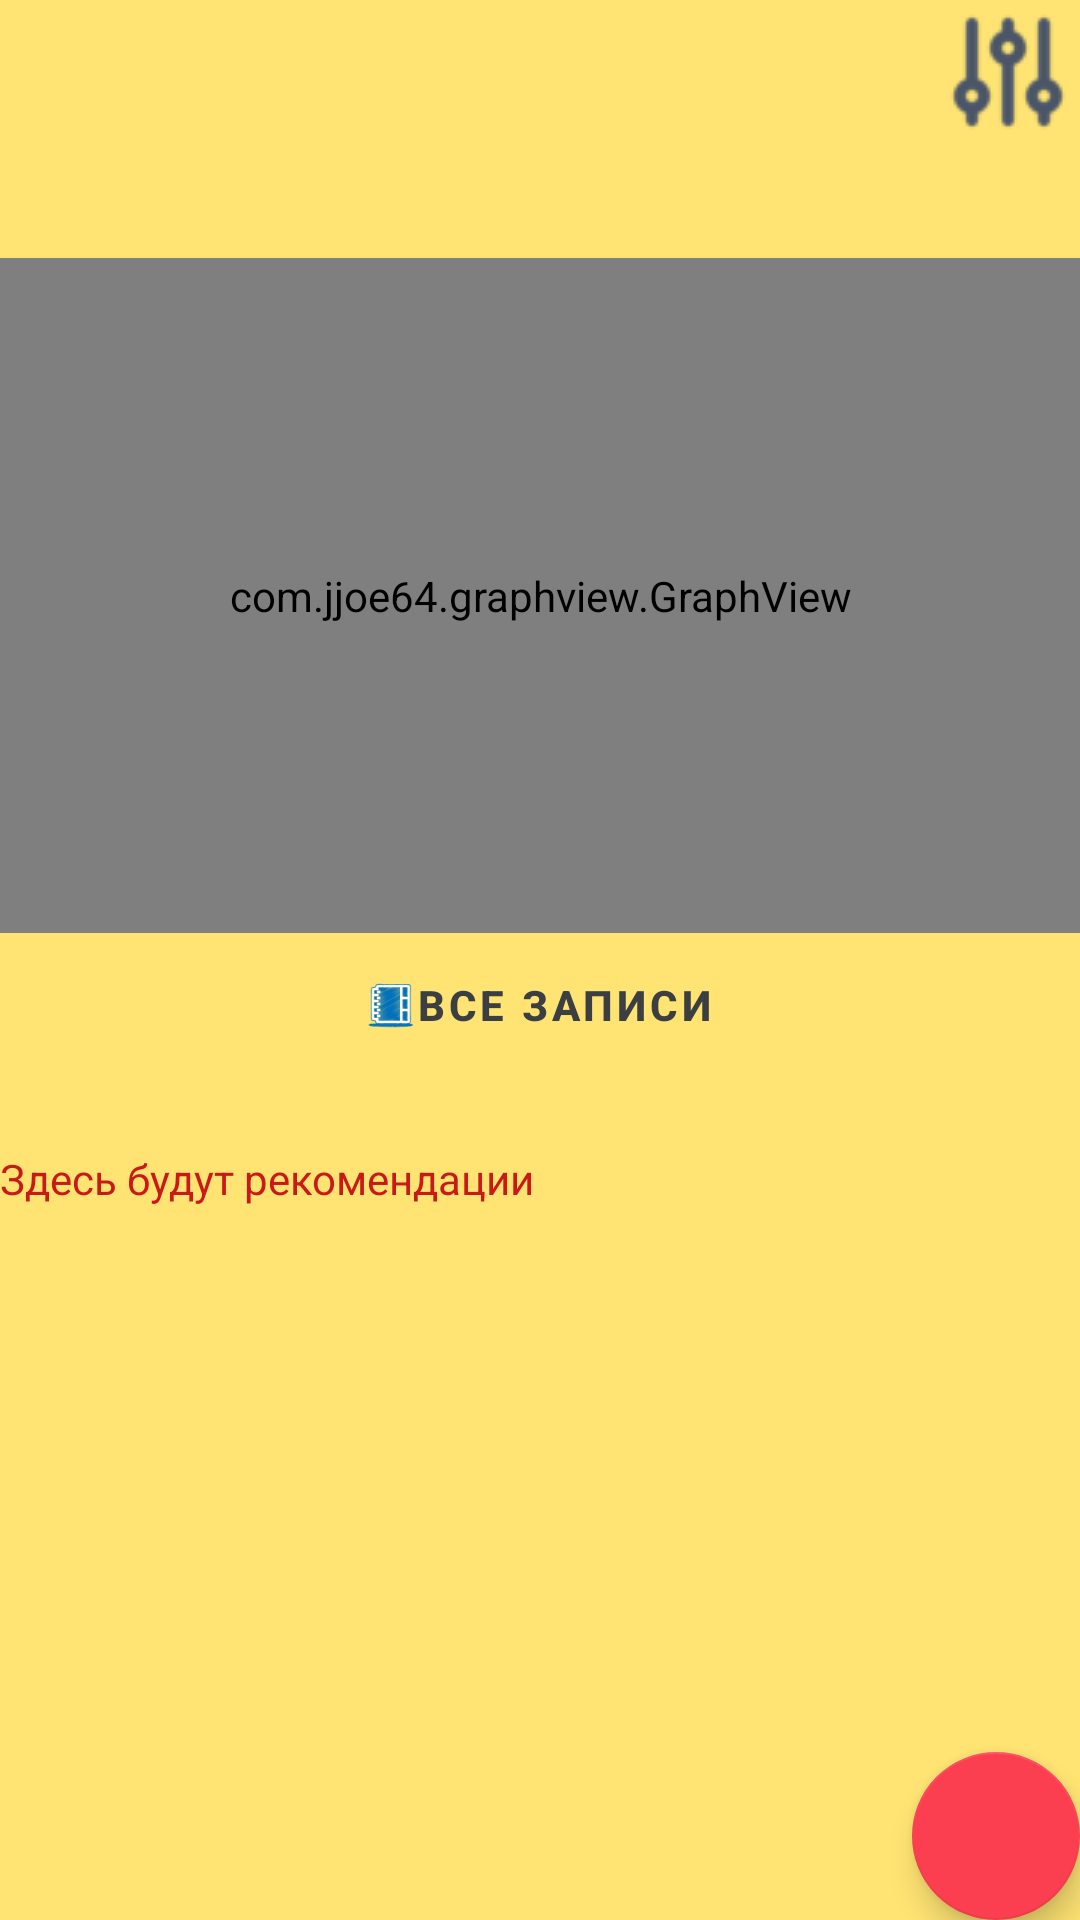

Icon bounding boxes for this 1080 × 1920 phone screenshot, format detection(x1, y1, x2, y2):
adjustments: detection(953, 17, 1063, 127)
